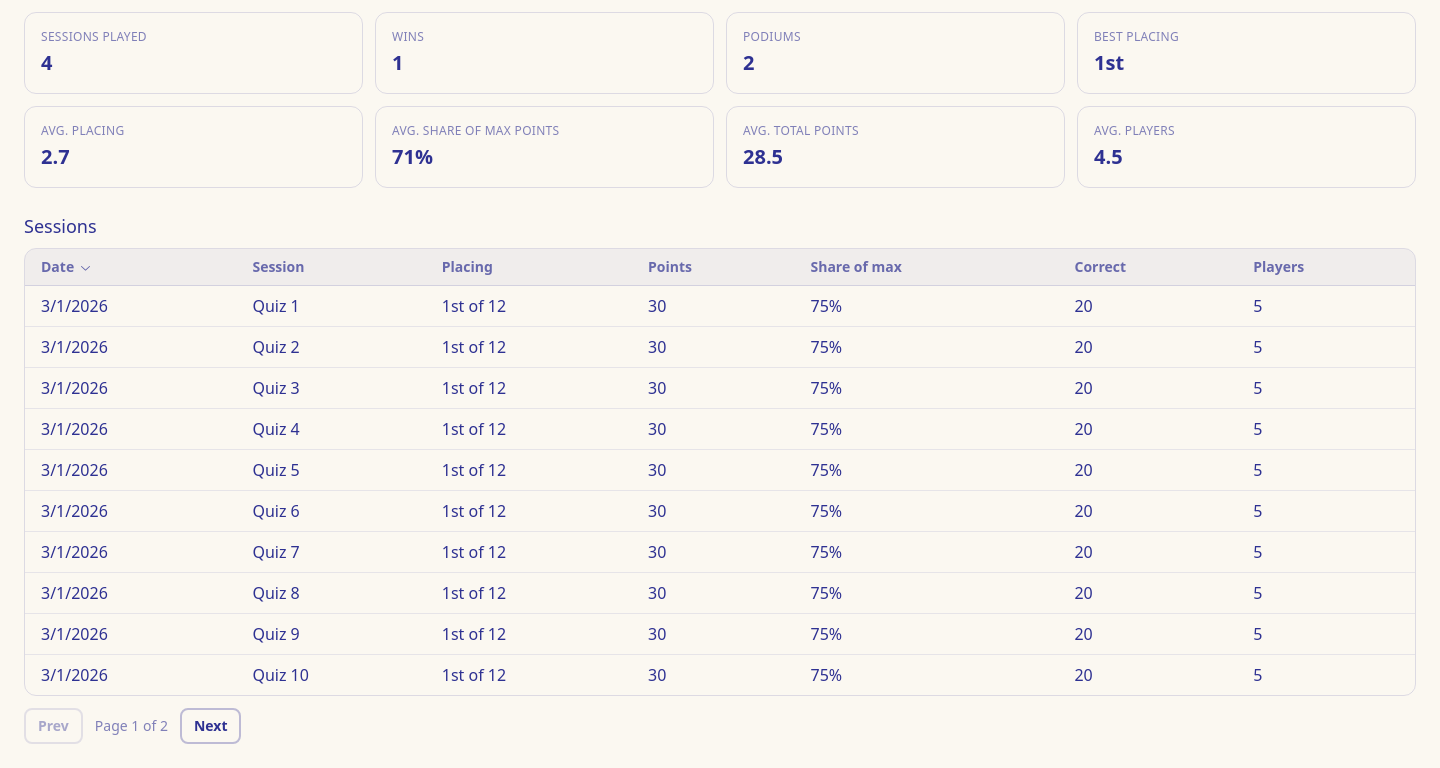
Test: TeamDetailPanel › paginates a long session history
(page scrolled)
Expected: the link "Quiz 1" is shown, top-left (252, 295), bottom-right (300, 317)
Expected: the text "Quiz 12" is not shown
Click the button "Next" at coordinates (211, 726), box top-left (180, 708), bottom-right (241, 744)
(page scrolled)
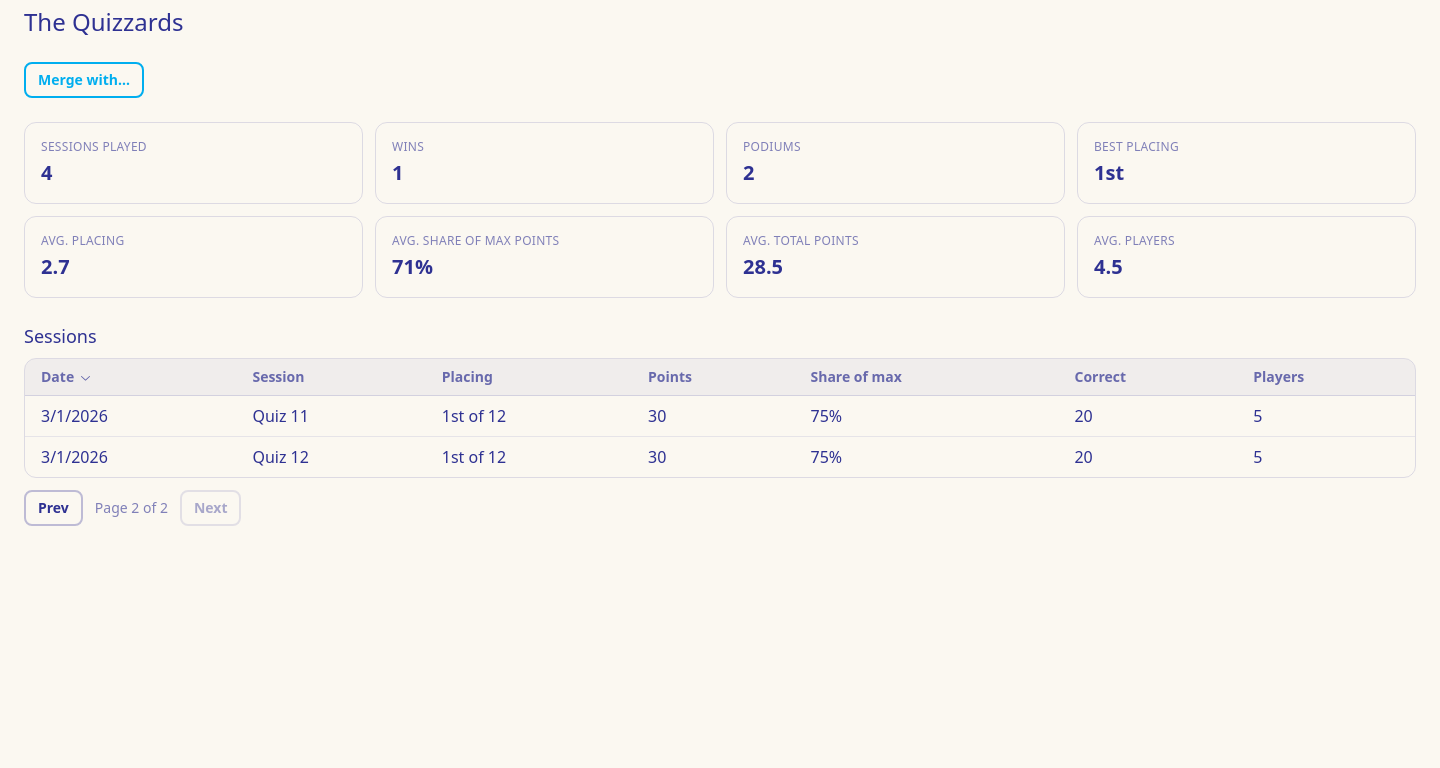
Expected: the link "Quiz 12" is shown, top-left (252, 446), bottom-right (309, 468)
